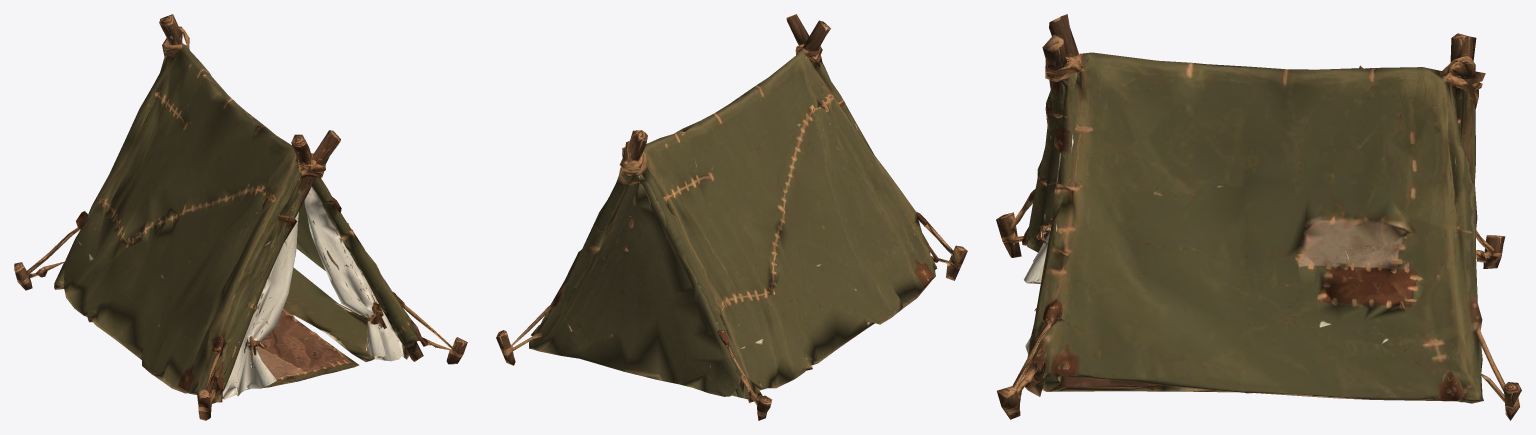
File: tent.glb
The picture shows the model from 3 angles, left to right: view 1: azimuth 30°, elevation 25°; view 2: azimuth 150°, elevation 25°; view 3: azimuth 270°, elevation 25°; orthographic projection. The views are drawn at different scales.
Size of the model in its own units: 1.69 by 1.48 by 2.2.
1 material, 1 textured.
